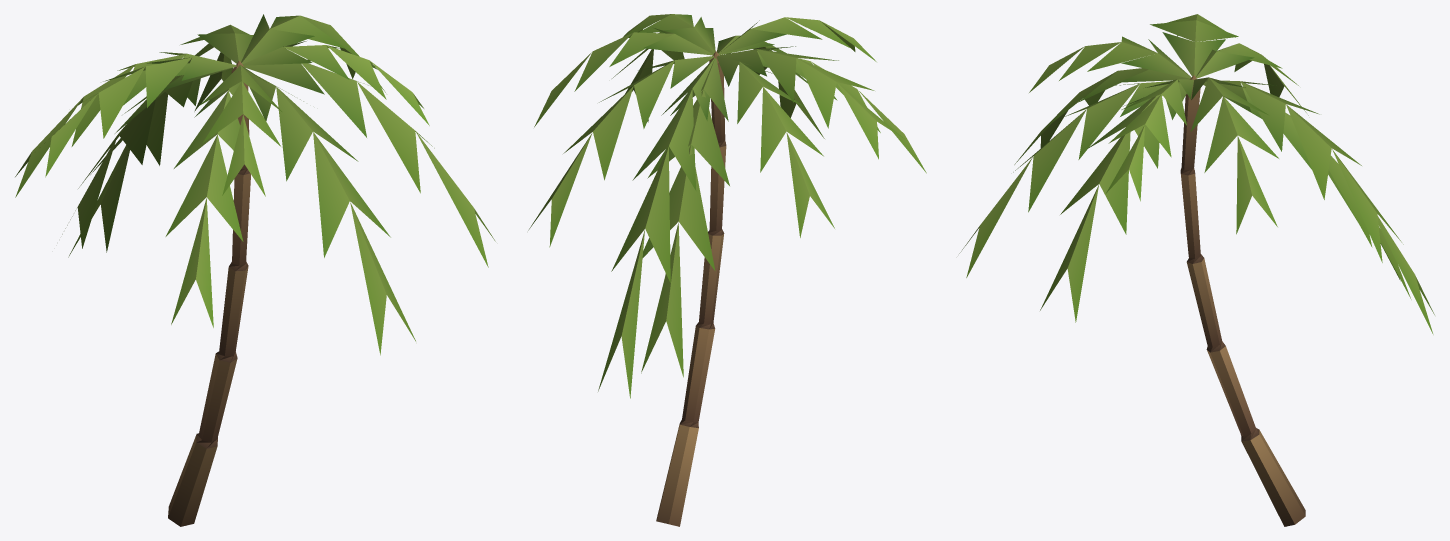
Rendered from palm_bent_far.glb.
3 renders of one model, left to right at view 1: azimuth 30°, elevation 25°; view 2: azimuth 150°, elevation 25°; view 3: azimuth 270°, elevation 25°, orthographic. The views are drawn at different scales.
Parts seen in each view (by area): view 1: palm_bent_far_leaf, palm_bent_far_solid; view 2: palm_bent_far_leaf, palm_bent_far_solid; view 3: palm_bent_far_leaf, palm_bent_far_solid.
Boxes of the visible parts, box(x1,y1,x2,y2) form: palm_bent_far_leaf: box(15, 14, 495, 355); palm_bent_far_solid: box(168, 60, 250, 526); palm_bent_far_leaf: box(528, 14, 926, 398); palm_bent_far_solid: box(656, 51, 726, 526); palm_bent_far_leaf: box(959, 14, 1434, 334); palm_bent_far_solid: box(1180, 75, 1305, 526).
Size of the model in its own units: 7.64 by 9.54 by 8.9.
